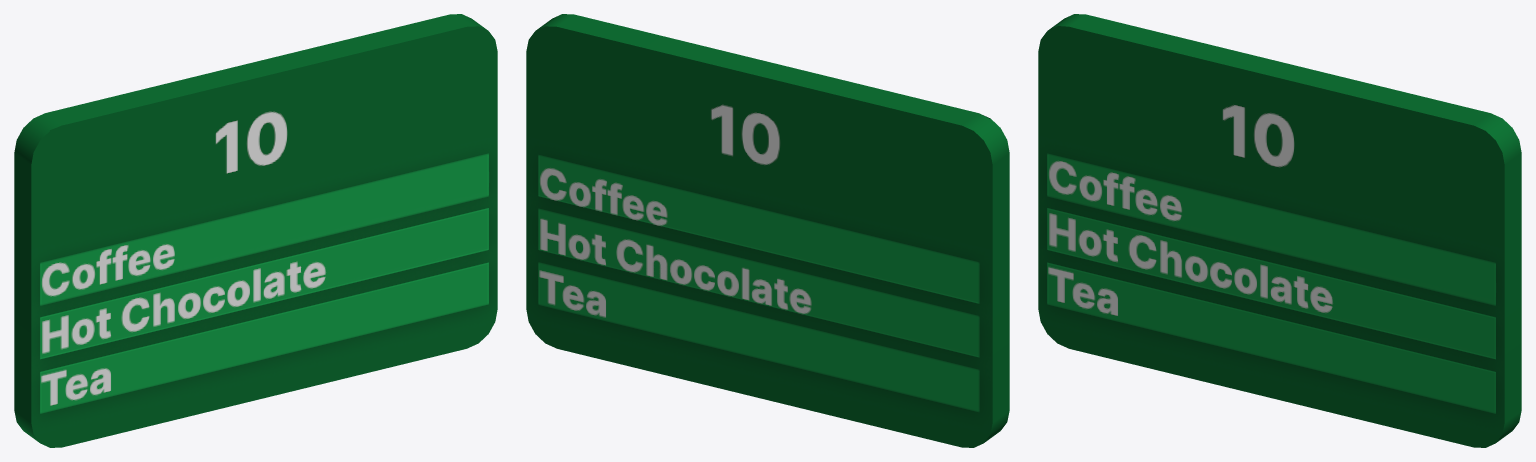
The model's file is aisle10.fbx.
The picture shows the model from 3 angles, left to right: view 1: azimuth 30°, elevation 25°; view 2: azimuth 150°, elevation 25°; view 3: azimuth 330°, elevation 25°; orthographic projection.
Parts seen in each view (by area): view 1: pCube1; view 2: pCube1; view 3: pCube1.
Part boxes in pixels (<box>): pCube1: <box>14,14,497,447</box>; pCube1: <box>526,14,1009,447</box>; pCube1: <box>1038,14,1521,447</box>.
Size of the model in its own units: 15.9 by 10.49 by 1.
